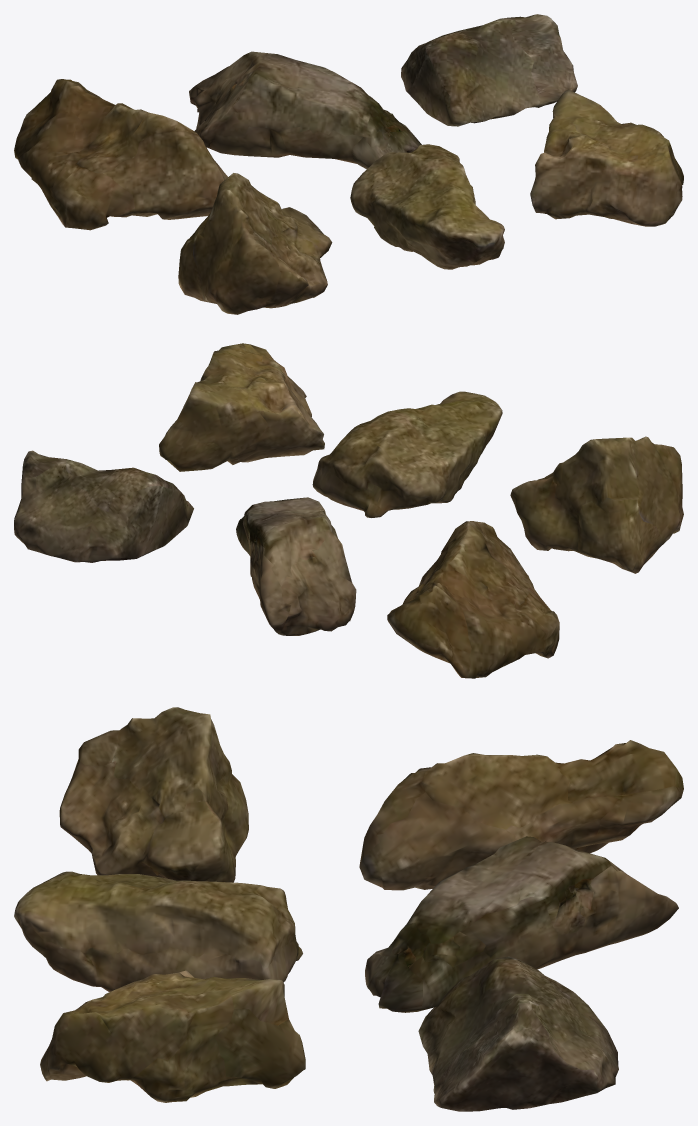
Rendered from rock_moss_set_01.glb.
The picture shows the model from 3 angles, top to bottom: view 1: azimuth 30°, elevation 25°; view 2: azimuth 150°, elevation 25°; view 3: azimuth 270°, elevation 25°; orthographic projection. The views are drawn at different scales.
Parts seen in each view (by area): view 1: rock_moss_set_01_rock01, rock_moss_set_01_rock02, rock_moss_set_01_rock06, rock_moss_set_01_rock04, rock_moss_set_01_rock03, rock_moss_set_01_rock05; view 2: rock_moss_set_01_rock04, rock_moss_set_01_rock01, rock_moss_set_01_rock05, rock_moss_set_01_rock03, rock_moss_set_01_rock06, rock_moss_set_01_rock02; view 3: rock_moss_set_01_rock01, rock_moss_set_01_rock02, rock_moss_set_01_rock05, rock_moss_set_01_rock04, rock_moss_set_01_rock06, rock_moss_set_01_rock03.
Part boxes in pixels (x1,y1,x2,y2): rock_moss_set_01_rock01: (14, 79, 227, 230); rock_moss_set_01_rock02: (189, 51, 421, 169); rock_moss_set_01_rock06: (530, 89, 683, 226); rock_moss_set_01_rock04: (178, 173, 332, 314); rock_moss_set_01_rock03: (401, 14, 577, 126); rock_moss_set_01_rock05: (350, 144, 504, 269); rock_moss_set_01_rock04: (510, 436, 683, 573); rock_moss_set_01_rock01: (387, 521, 559, 678); rock_moss_set_01_rock05: (312, 391, 502, 517); rock_moss_set_01_rock03: (14, 450, 193, 562); rock_moss_set_01_rock06: (159, 343, 324, 471); rock_moss_set_01_rock02: (236, 497, 356, 635); rock_moss_set_01_rock01: (359, 740, 683, 890); rock_moss_set_01_rock02: (365, 836, 678, 1012); rock_moss_set_01_rock05: (14, 871, 302, 991); rock_moss_set_01_rock04: (59, 707, 248, 882); rock_moss_set_01_rock06: (40, 970, 305, 1102); rock_moss_set_01_rock03: (418, 956, 618, 1111).
Bounding box in the file's own units: 8 × 1.76 × 6.94.
Materials: 1 (1 with a texture image).
